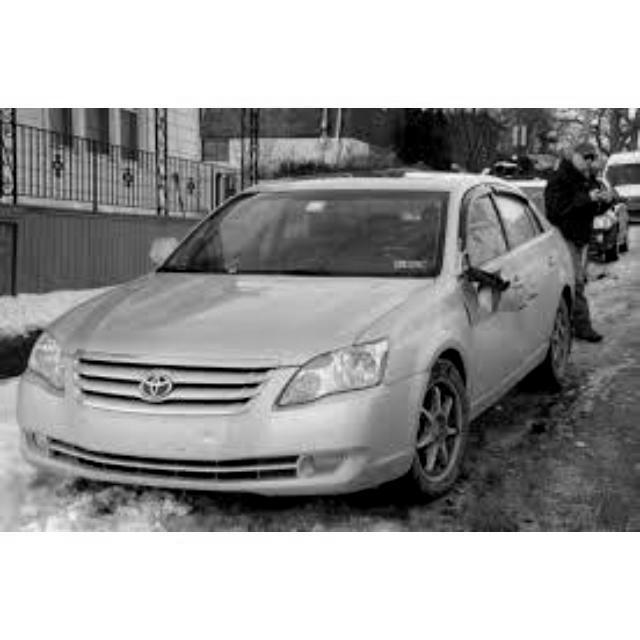Sidemirror-Damage: (459, 264, 535, 310)
bonnet-dent: (91, 273, 390, 349)
front-bumper-dent: (237, 419, 401, 493)
